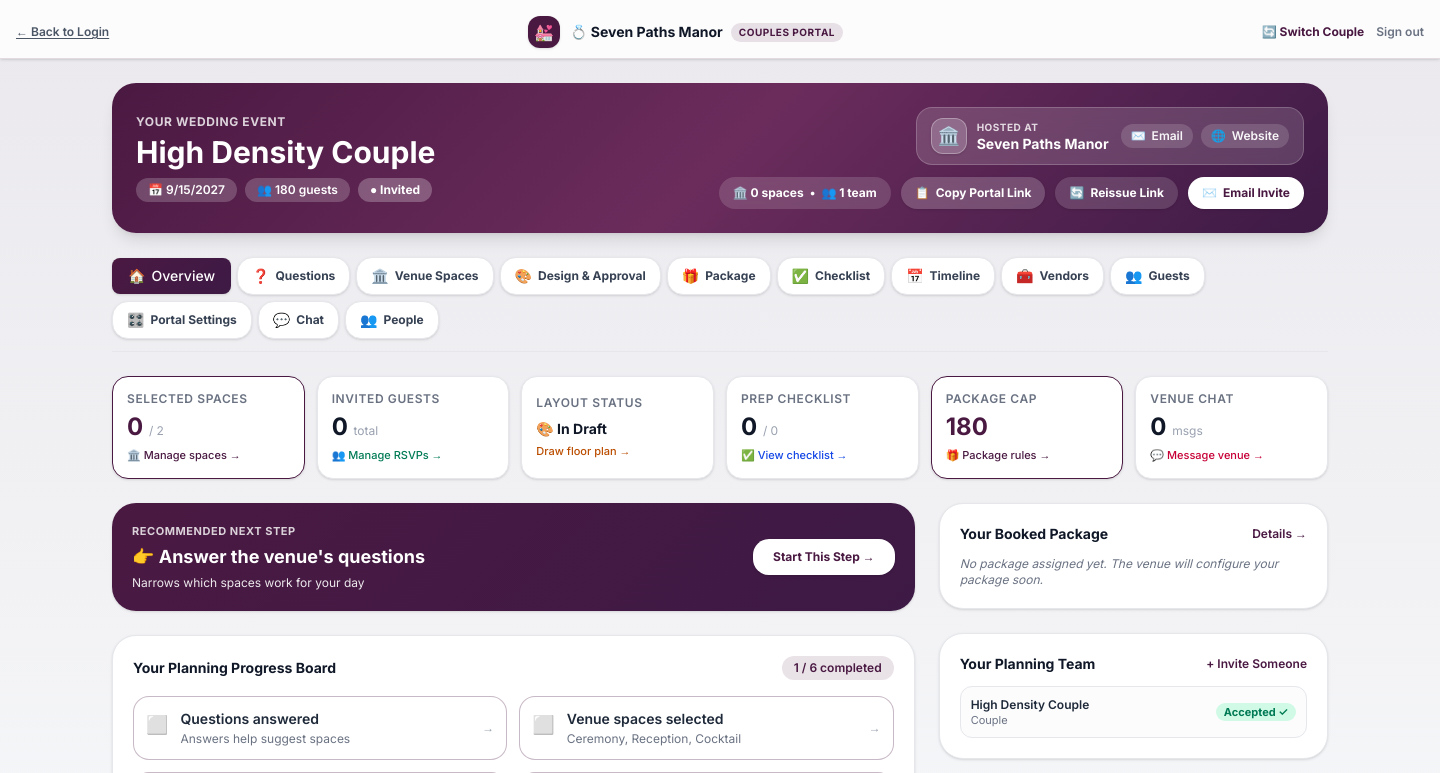
Test case: CouplesPortal - High-Density Executive Layout & Usability (#158) › renders Checklist in a 3-column phase-grouped Kanban board
The image size is (1440, 773).
Click the tab "✅ Checklist". click: x=831, y=276
box: [776,257,885,295]
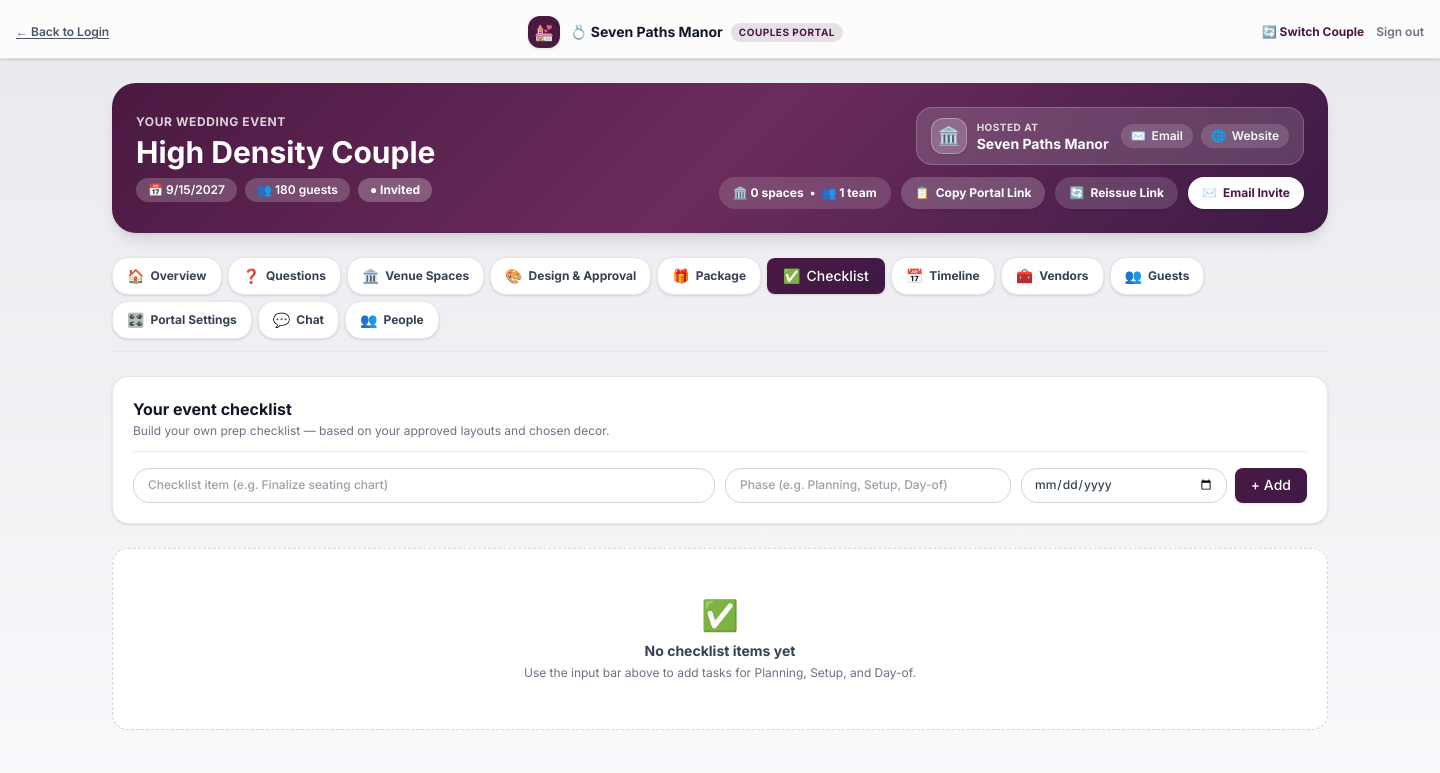
Now the heading "Your event checklist" is shown, box [133,399,292,419]
Now the text "No checklist items yet" is shown, box [645,642,795,659]
